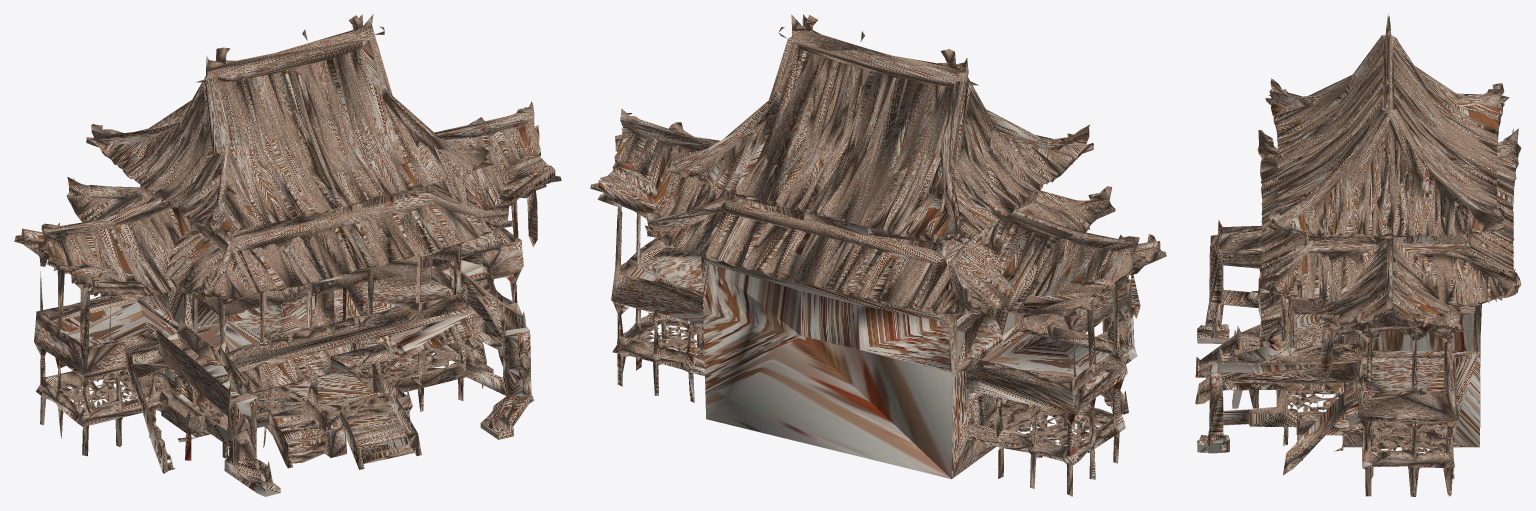
File: palace_grand.lod.glb
The picture shows the model from 3 angles, left to right: view 1: azimuth 30°, elevation 25°; view 2: azimuth 150°, elevation 25°; view 3: azimuth 270°, elevation 25°; orthographic projection. The views are drawn at different scales.
Bounding box in the file's own units: 1.89 × 1.33 × 1.13.
1 material, 1 textured.
